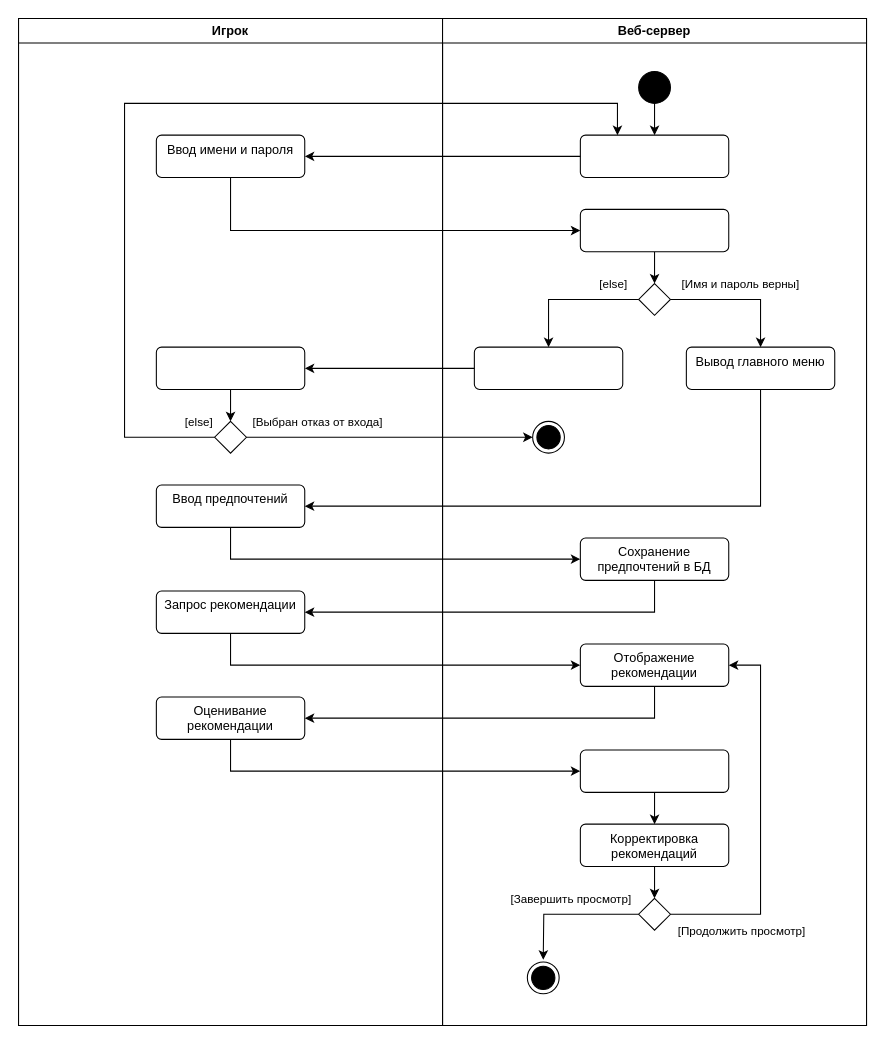
This 885x1044 diagram has some shape labels left out. Each missing label, with the box of its shape:
Выбор действия: (155, 346, 305, 390)
Вывод предупреждения: (473, 346, 623, 390)
Запрос имени и пароля: (579, 134, 729, 178)
Проверка имени и пароля: (579, 208, 729, 252)
Сохранение оценки в БД: (579, 749, 729, 792)
